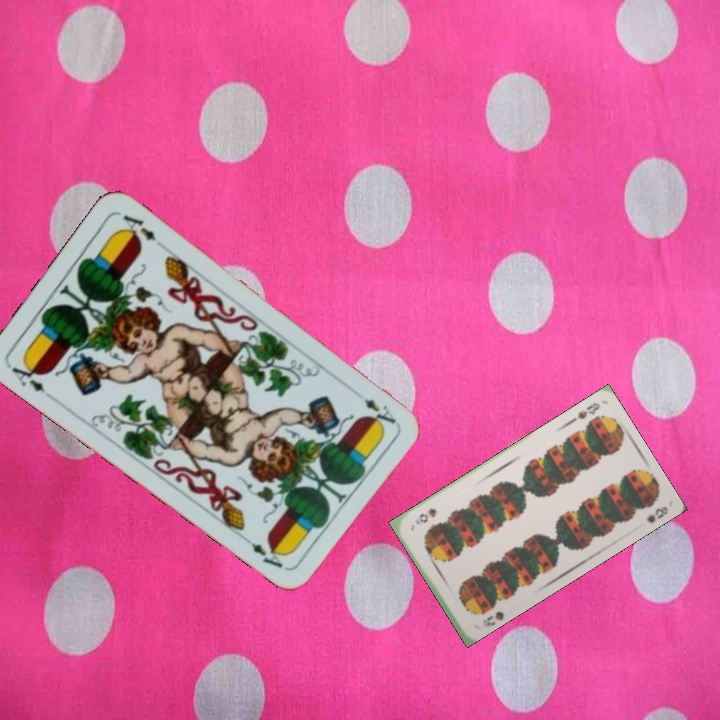EA: (7, 354, 48, 396), (359, 394, 399, 427)
S8: (566, 398, 602, 426), (478, 607, 507, 630)
